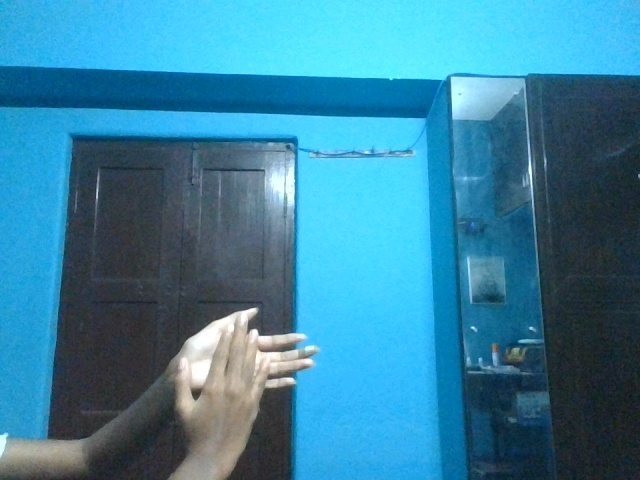H: (161, 298, 324, 452)
